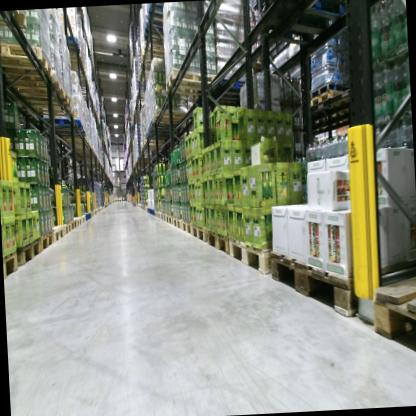pallet: (266, 241, 416, 324), (249, 0, 372, 33), (368, 274, 416, 357), (0, 31, 54, 85), (4, 60, 65, 100), (227, 232, 275, 280), (163, 65, 219, 99), (17, 82, 72, 112), (309, 90, 358, 121), (24, 97, 76, 122), (142, 19, 186, 47), (211, 73, 254, 99), (145, 2, 185, 29), (15, 236, 42, 271), (0, 10, 32, 34), (152, 107, 190, 127), (45, 115, 84, 134), (206, 227, 230, 256), (138, 48, 174, 66), (306, 83, 346, 99), (2, 247, 19, 281), (149, 117, 189, 131), (244, 50, 268, 70), (63, 31, 81, 54), (191, 221, 209, 244), (39, 228, 55, 253), (147, 123, 172, 136), (137, 68, 157, 82), (144, 130, 174, 139), (51, 222, 64, 242), (141, 138, 172, 146), (181, 218, 193, 237), (172, 214, 183, 229), (73, 7, 85, 19), (62, 221, 72, 235), (71, 216, 82, 227), (69, 218, 78, 231), (166, 213, 174, 224), (80, 214, 85, 225), (161, 211, 166, 222), (86, 212, 92, 221), (84, 213, 89, 221), (89, 210, 94, 218), (153, 210, 158, 218), (158, 210, 162, 219)
pallet_truck: (129, 178, 139, 207)
